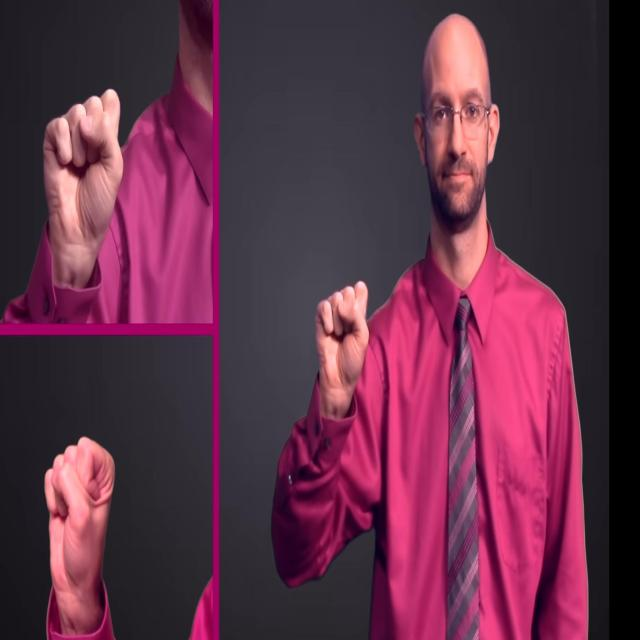S: (42, 86, 125, 246), (43, 436, 119, 596), (314, 279, 371, 396)
